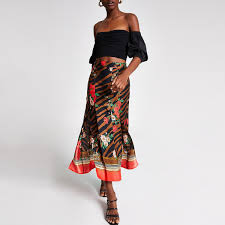C_skirt: (65, 59, 143, 191)
C_tank top: (87, 13, 151, 62)
